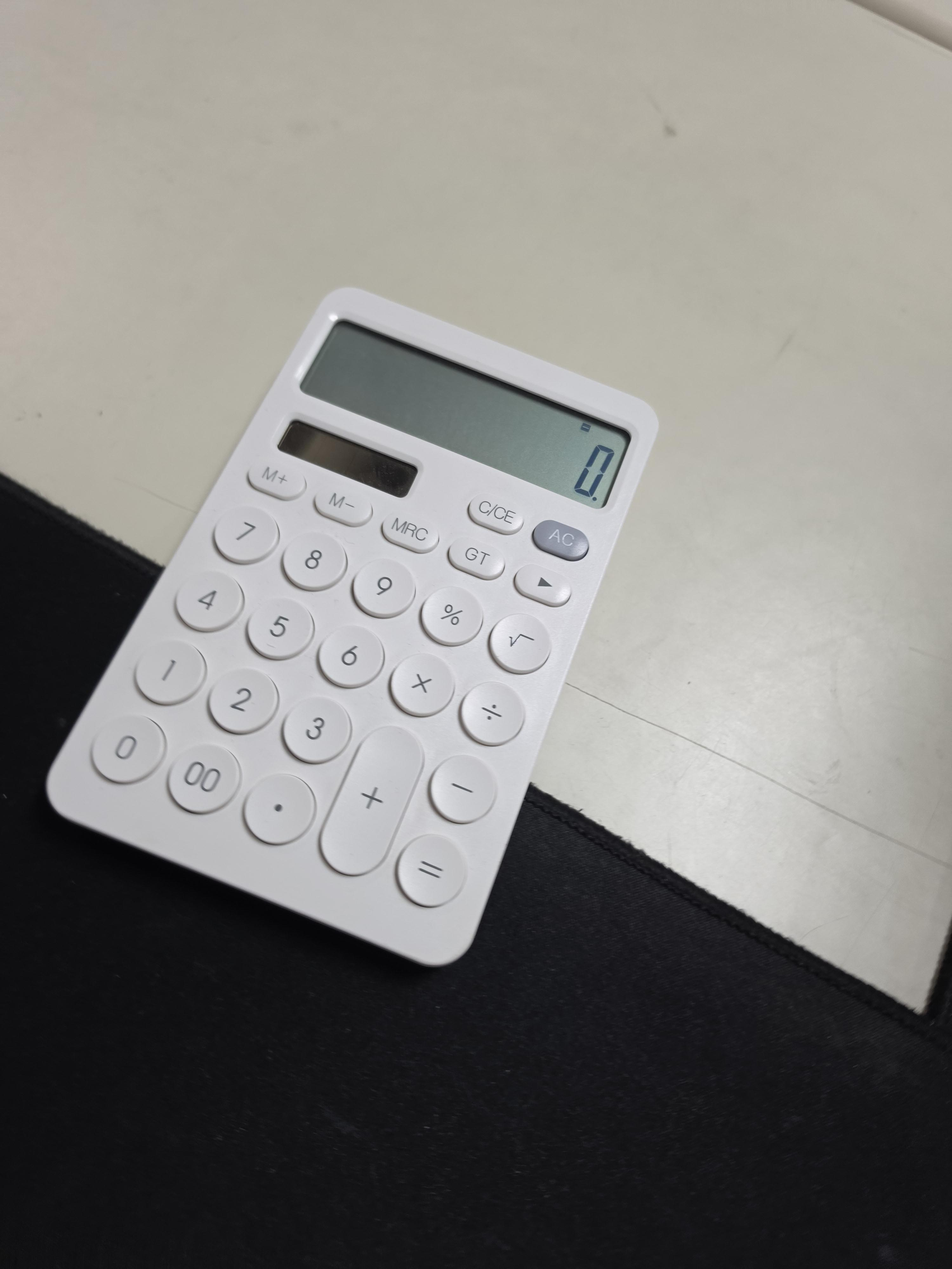calculator: (45, 287, 660, 969)
